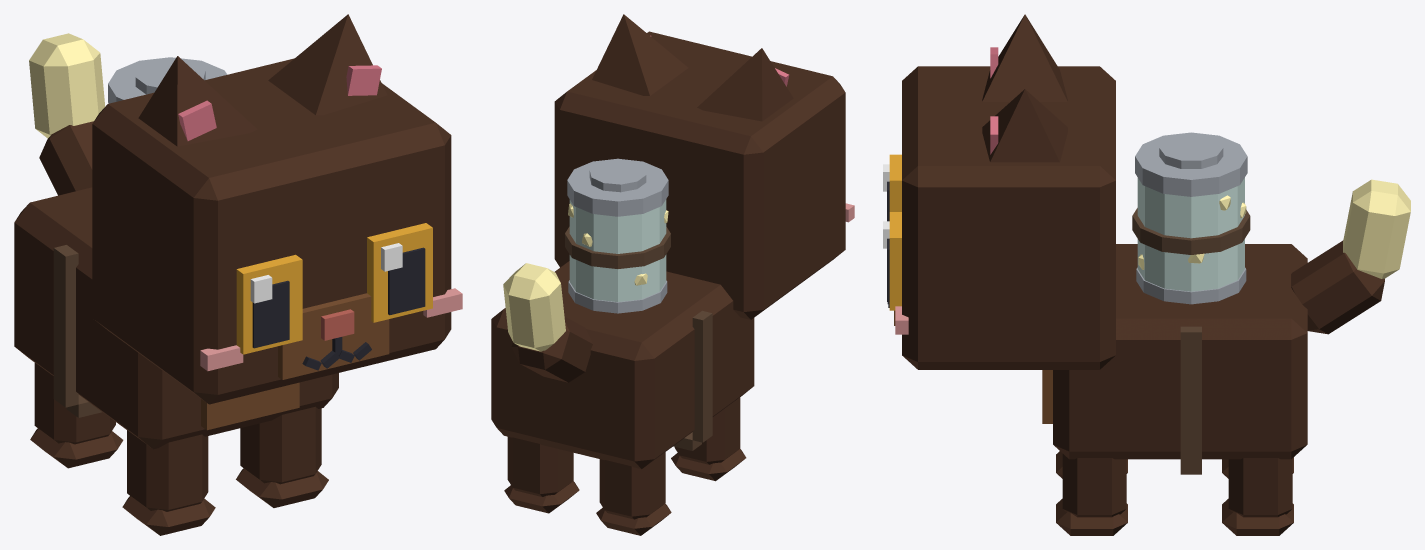
The model's file is CatCafe_Cat_Firefly.fbx.
The picture shows the model from 3 angles, left to right: view 1: azimuth 30°, elevation 25°; view 2: azimuth 150°, elevation 25°; view 3: azimuth 270°, elevation 25°; orthographic projection. The views are drawn at different scales.
Visible parts, largest first — view 1: CatCafe_Cat_Firefly_Head, CatCafe_Cat_Firefly_Body, CatCafe_Cat_Firefly_Tail, CatCafe_Cat_Firefly_LegF2, CatCafe_Cat_Firefly_LegF1, CatCafe_Cat_Firefly_Prop, CatCafe_Cat_Firefly_EarL, CatCafe_Cat_Firefly_Eye2, CatCafe_Cat_Firefly_Eye1, CatCafe_Cat_Firefly_EarR, CatCafe_Cat_Firefly_LegB2; view 2: CatCafe_Cat_Firefly_Head, CatCafe_Cat_Firefly_Body, CatCafe_Cat_Firefly_Prop, CatCafe_Cat_Firefly_Tail, CatCafe_Cat_Firefly_Prop_Glass, CatCafe_Cat_Firefly_LegB2, CatCafe_Cat_Firefly_EarL, CatCafe_Cat_Firefly_LegB1, CatCafe_Cat_Firefly_EarR, CatCafe_Cat_Firefly_LegF2; view 3: CatCafe_Cat_Firefly_Head, CatCafe_Cat_Firefly_Body, CatCafe_Cat_Firefly_Prop, CatCafe_Cat_Firefly_Tail, CatCafe_Cat_Firefly_Prop_Glass, CatCafe_Cat_Firefly_LegF1, CatCafe_Cat_Firefly_LegB1, CatCafe_Cat_Firefly_EarL, CatCafe_Cat_Firefly_EarR, CatCafe_Cat_Firefly_Eye1, CatCafe_Cat_Firefly_Eye2.
Boxes of the visible parts, x1,y1,x2,y2 form: CatCafe_Cat_Firefly_Head: (92, 58, 462, 404); CatCafe_Cat_Firefly_Body: (14, 187, 338, 449); CatCafe_Cat_Firefly_Tail: (29, 33, 105, 195); CatCafe_Cat_Firefly_LegF2: (122, 430, 215, 535); CatCafe_Cat_Firefly_LegF1: (236, 406, 328, 507); CatCafe_Cat_Firefly_Prop: (53, 57, 227, 417); CatCafe_Cat_Firefly_EarL: (268, 14, 387, 115); CatCafe_Cat_Firefly_Eye2: (236, 254, 302, 354); CatCafe_Cat_Firefly_Eye1: (367, 223, 432, 322); CatCafe_Cat_Firefly_EarR: (138, 56, 257, 146); CatCafe_Cat_Firefly_LegB2: (30, 362, 123, 468); CatCafe_Cat_Firefly_Head: (554, 31, 854, 319); CatCafe_Cat_Firefly_Body: (491, 261, 754, 469); CatCafe_Cat_Firefly_Prop: (565, 158, 712, 450); CatCafe_Cat_Firefly_Tail: (503, 263, 592, 382); CatCafe_Cat_Firefly_Prop_Glass: (569, 199, 666, 301); CatCafe_Cat_Firefly_LegB2: (596, 452, 671, 535); CatCafe_Cat_Firefly_EarL: (592, 14, 688, 95); CatCafe_Cat_Firefly_LegB1: (504, 437, 579, 513); CatCafe_Cat_Firefly_EarR: (697, 48, 793, 121); CatCafe_Cat_Firefly_LegF2: (671, 397, 746, 481); CatCafe_Cat_Firefly_Head: (887, 66, 1115, 369); CatCafe_Cat_Firefly_Body: (1042, 244, 1307, 459); CatCafe_Cat_Firefly_Prop: (1132, 132, 1250, 474); CatCafe_Cat_Firefly_Tail: (1291, 179, 1410, 334); CatCafe_Cat_Firefly_Prop_Glass: (1137, 178, 1244, 291); CatCafe_Cat_Firefly_LegF1: (1056, 454, 1127, 535); CatCafe_Cat_Firefly_LegB1: (1222, 458, 1293, 535); CatCafe_Cat_Firefly_EarL: (982, 89, 1067, 162); CatCafe_Cat_Firefly_EarR: (982, 14, 1067, 101); CatCafe_Cat_Firefly_Eye1: (883, 212, 901, 310); CatCafe_Cat_Firefly_Eye2: (883, 154, 901, 221).
Bounding box in the file's own units: 1 × 1.86 × 1.97.
1 material, 1 textured.
